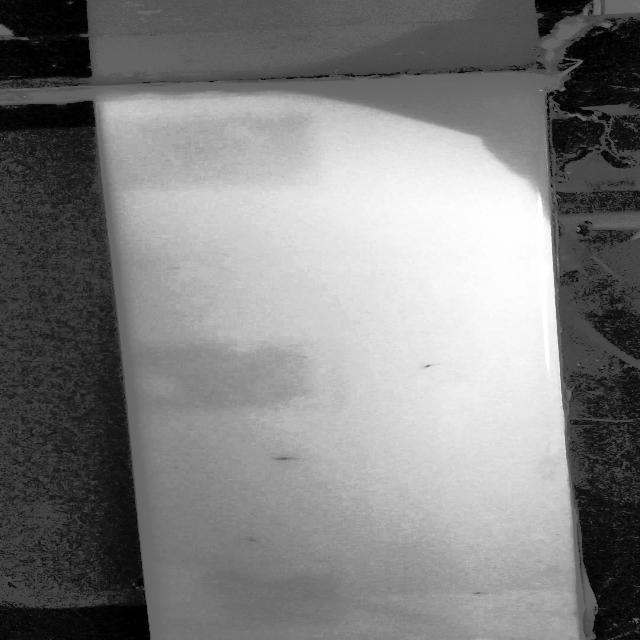shrimp: (264, 453, 322, 462), (243, 532, 273, 548), (417, 358, 446, 373), (461, 587, 497, 599)
